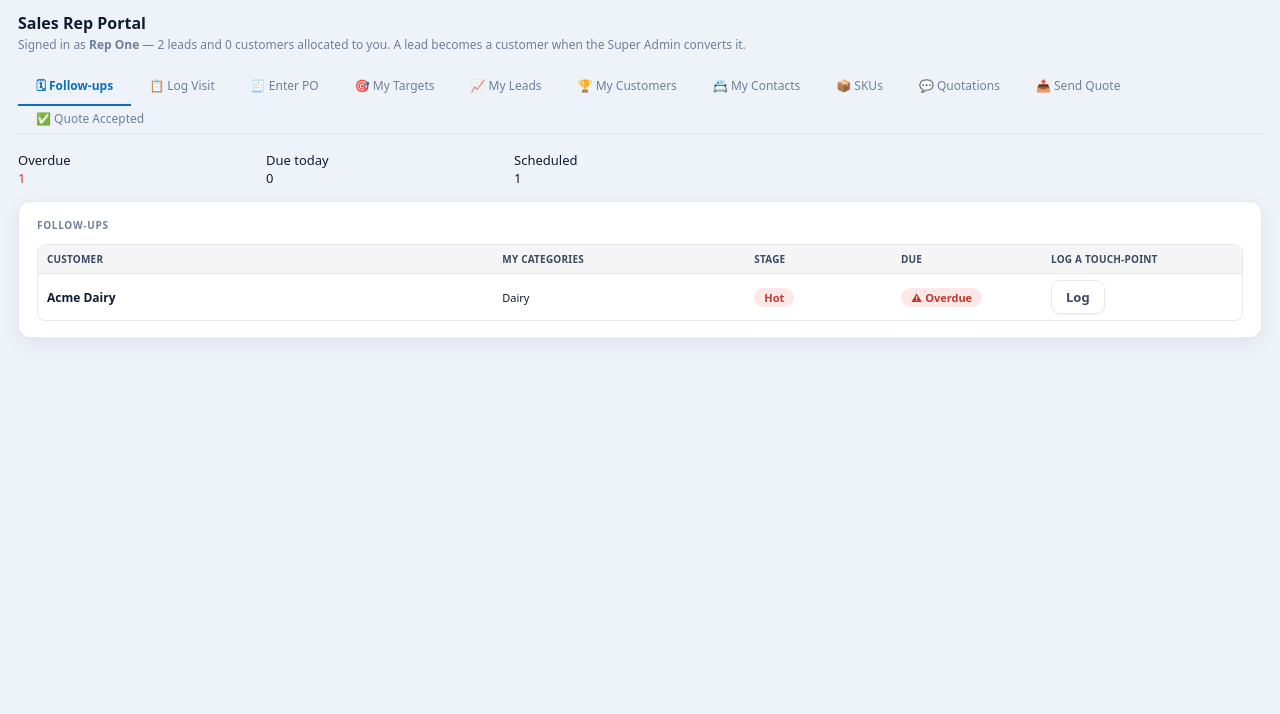
Test: Rep Portal — allocation › shows a rep only their own customers
Check: the text "Sales Rep Portal" is shown, box [18,12,146,34]
Click the text with class "step-tab" showing "📈 My Leads" at (506, 86), box [470,77,542,94]
(page scrolled)
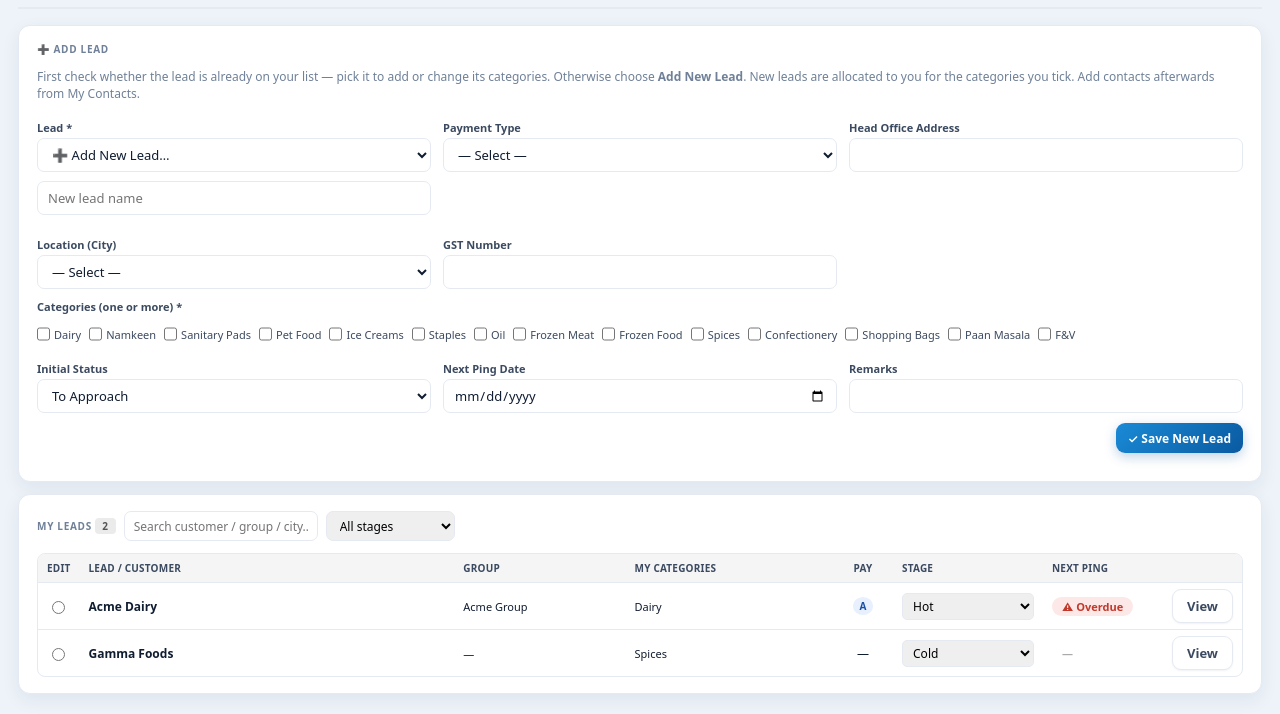
Check: the text "Acme Dairy" is shown, box [80,582,454,630]
Check: the text "Gamma Foods" is shown, box [80,630,454,676]
